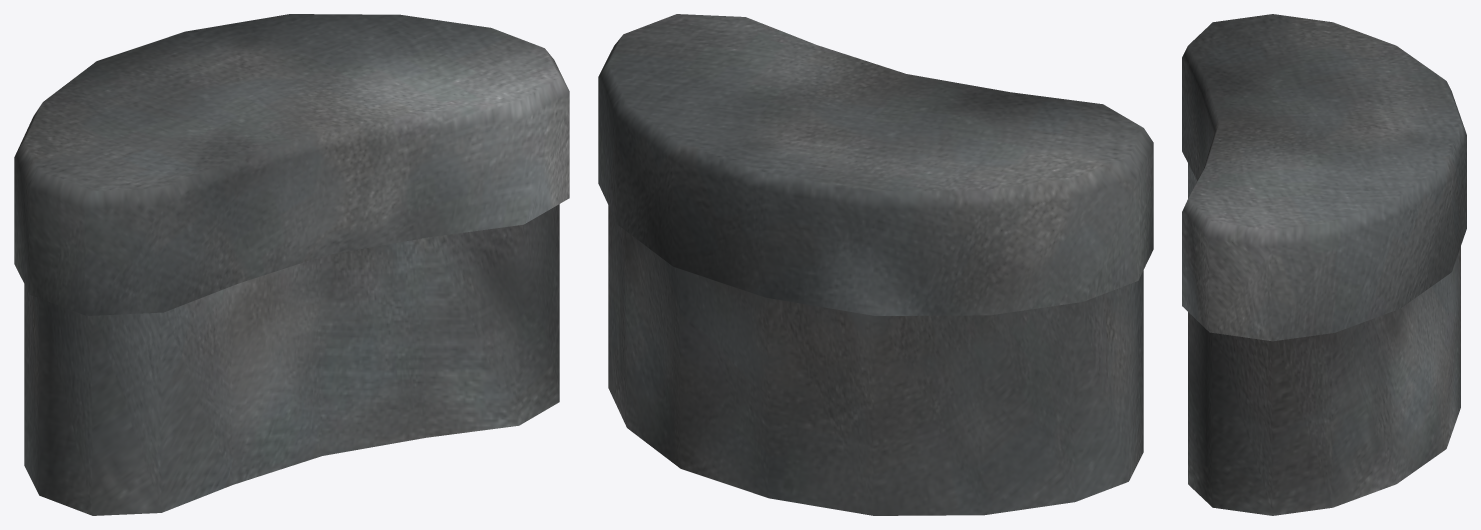
The model's file is canteen.FBX.
3 renders of one model, left to right at view 1: azimuth 30°, elevation 25°; view 2: azimuth 150°, elevation 25°; view 3: azimuth 270°, elevation 25°, orthographic. The views are drawn at different scales.
Visible parts, largest first — view 1: canteen; view 2: canteen; view 3: canteen.
Part boxes in pixels (x1,y1,x2,y2): canteen: (14,14,569,515); canteen: (598,14,1153,515); canteen: (1182,14,1466,515).
Bounding box in the file's own units: 183 × 97.68 × 108.
1 material, 1 textured.
